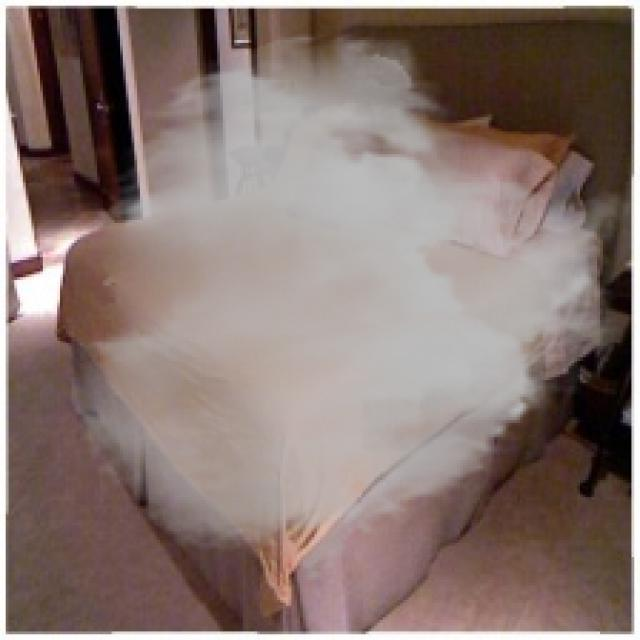smoke: (66, 28, 634, 583)
